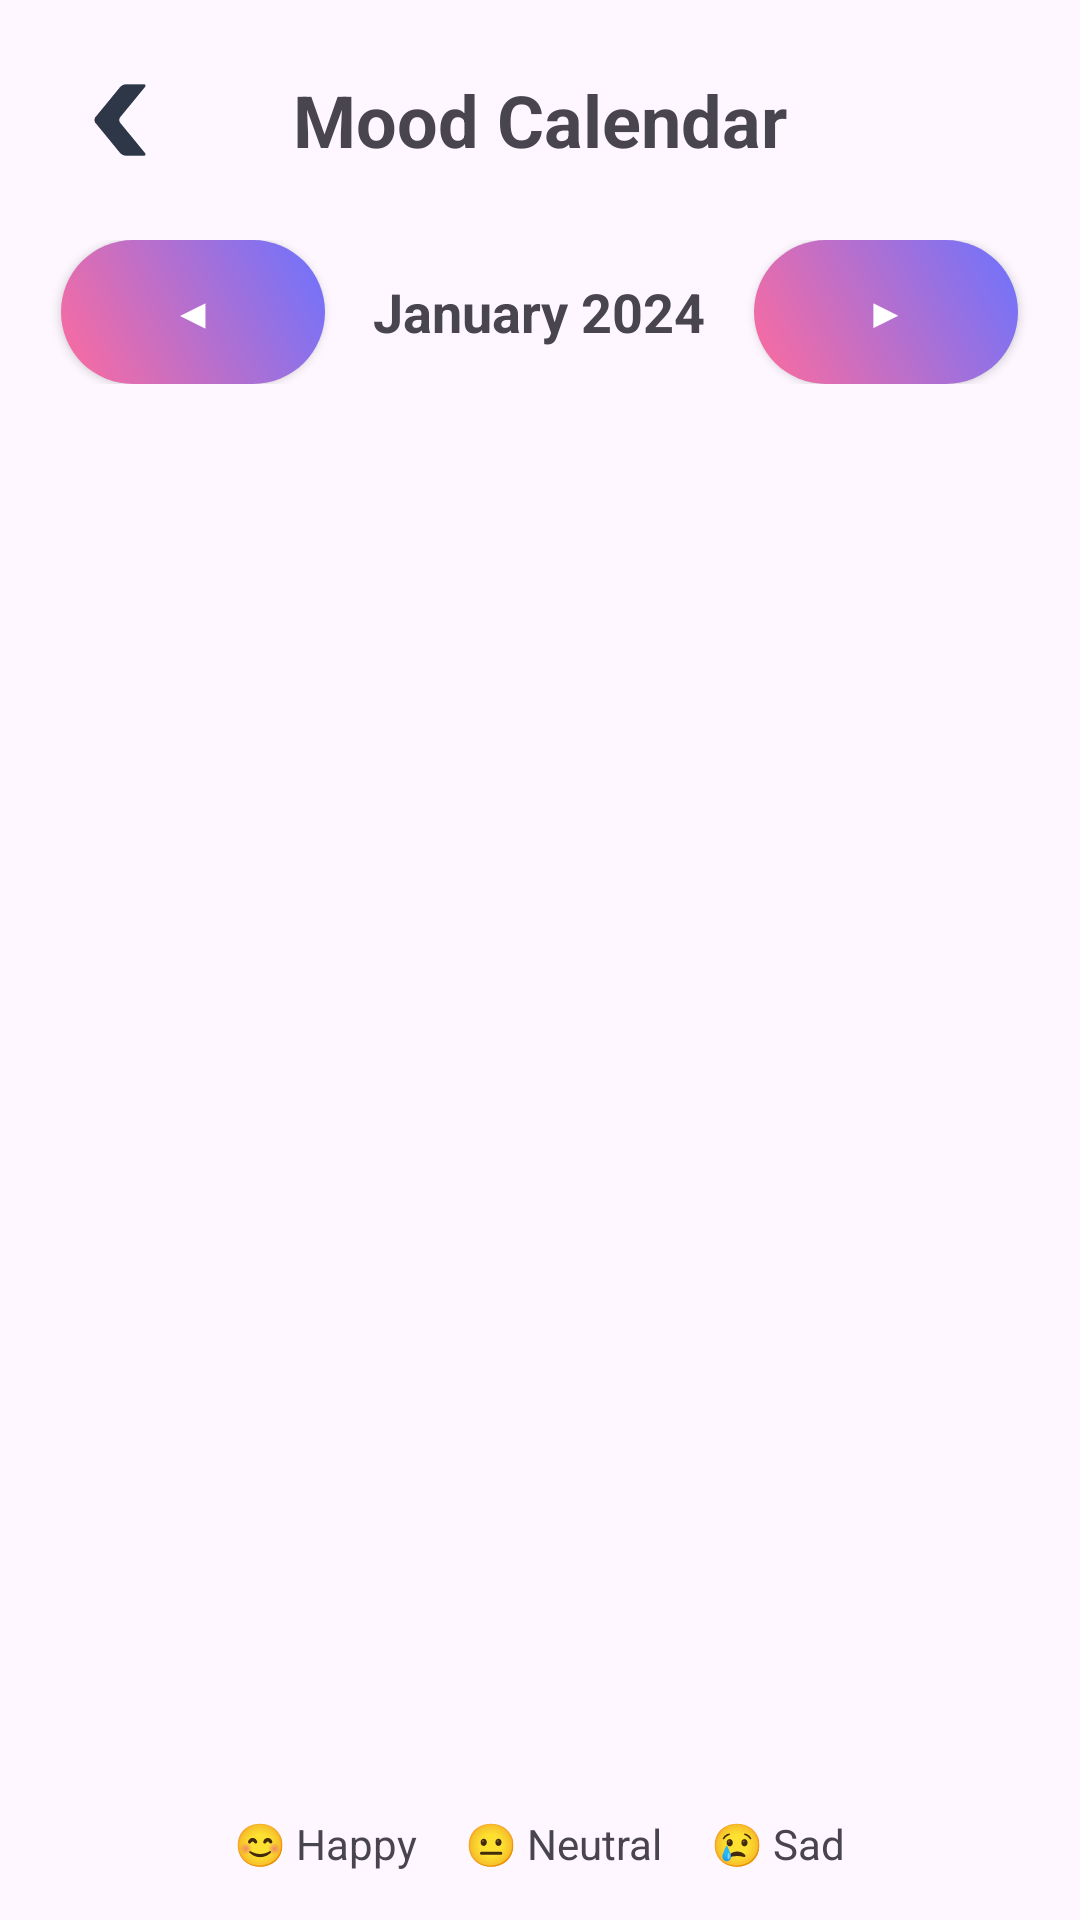

Named icons in this screenshot (1080x1920) and their bounding boxes, bbox(x1, y1, x2, y2):
Back: bbox(94, 84, 146, 156)
